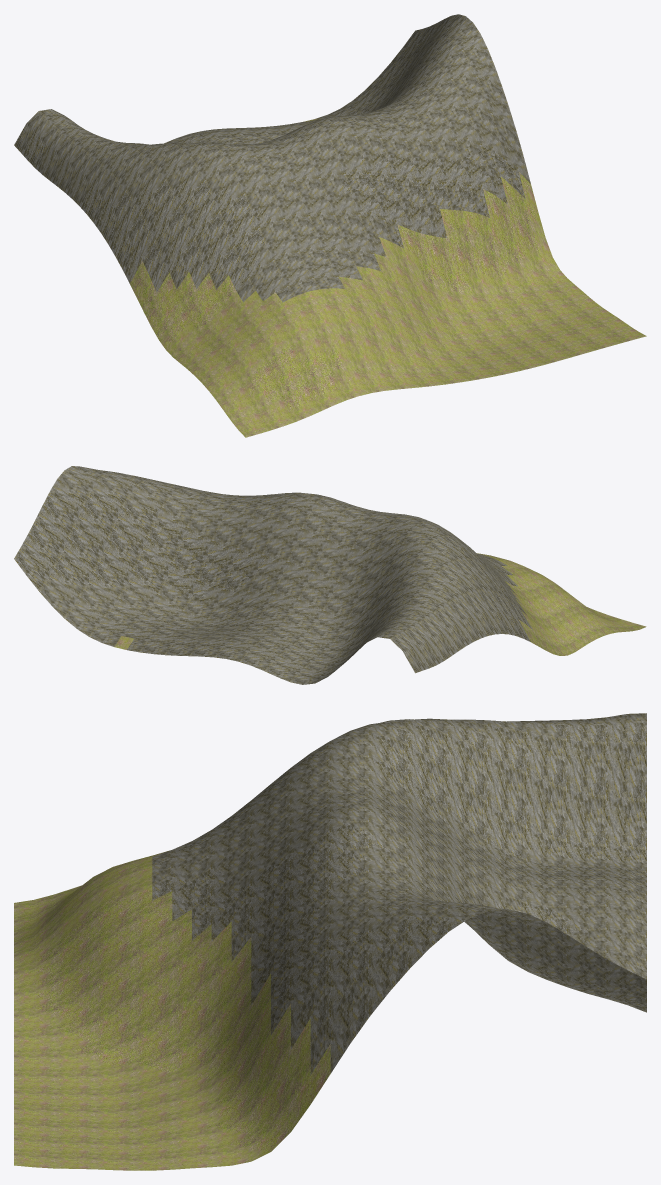
Rendered from chunk_-1_2.glb.
3 renders of one model, top to bottom at view 1: azimuth 30°, elevation 25°; view 2: azimuth 150°, elevation 25°; view 3: azimuth 270°, elevation 25°, orthographic. The views are drawn at different scales.
Parts seen in each view (by area): view 1: chunk_-1_2-col; view 2: chunk_-1_2-col; view 3: chunk_-1_2-col.
Boxes of the visible parts, <box> form: chunk_-1_2-col: <box>14,14,646,437</box>; chunk_-1_2-col: <box>14,466,646,684</box>; chunk_-1_2-col: <box>14,713,646,1170</box>.
Size of the model in its own units: 64 by 29.47 by 64.
Materials: 2 (2 with a texture image).
